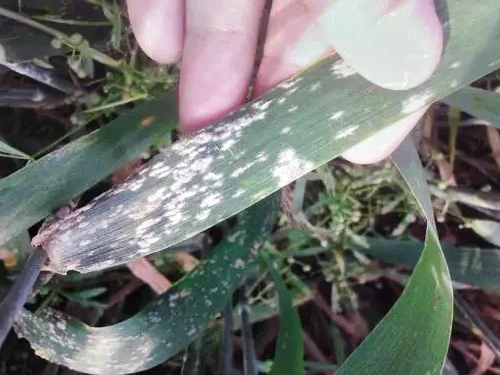Powdery Mildew: (86, 72, 334, 265)
